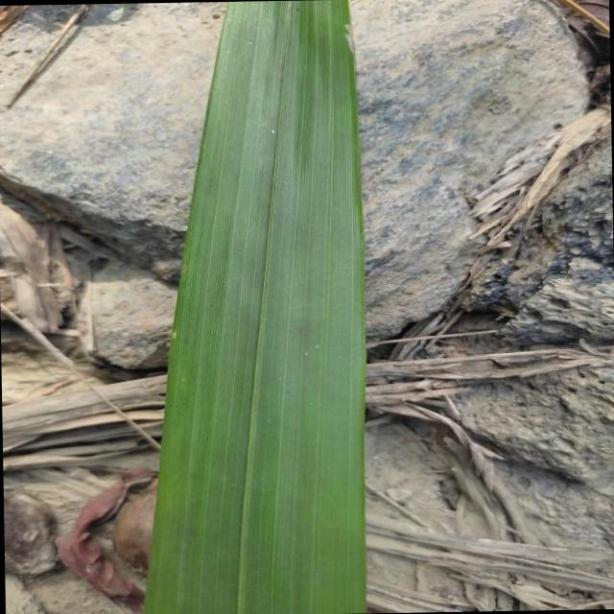Healthy: (141, 0, 366, 614)
